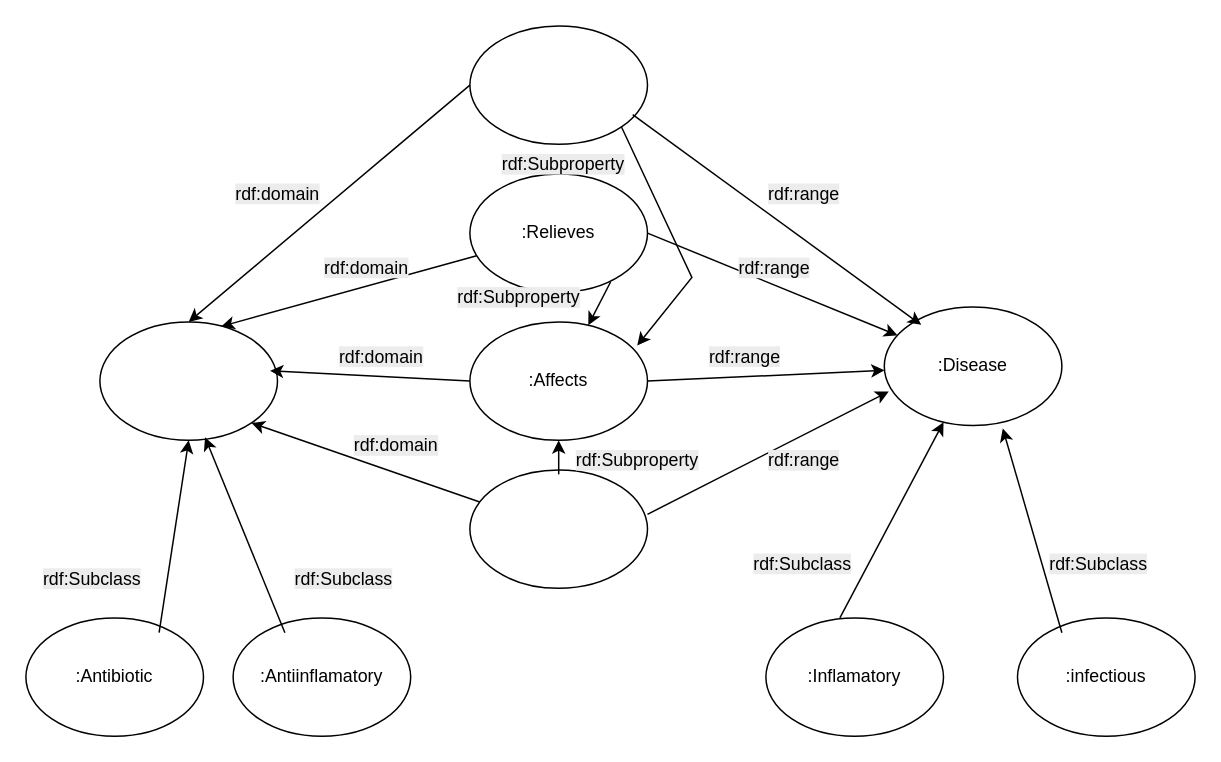
This 1221x762 diagram has some shape labels left out. The box of each missing label's shape, as (x1, y1, x2, y2) in pixels:
:Drug: (98, 320, 278, 440)
:Treats: (468, 468, 648, 588)
:Worsen: (468, 24, 648, 144)
